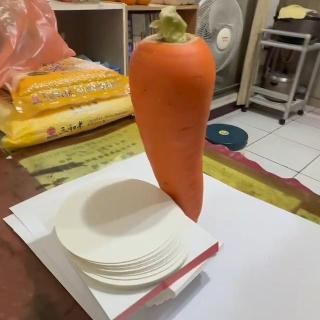carrot: (128, 12, 216, 224)
